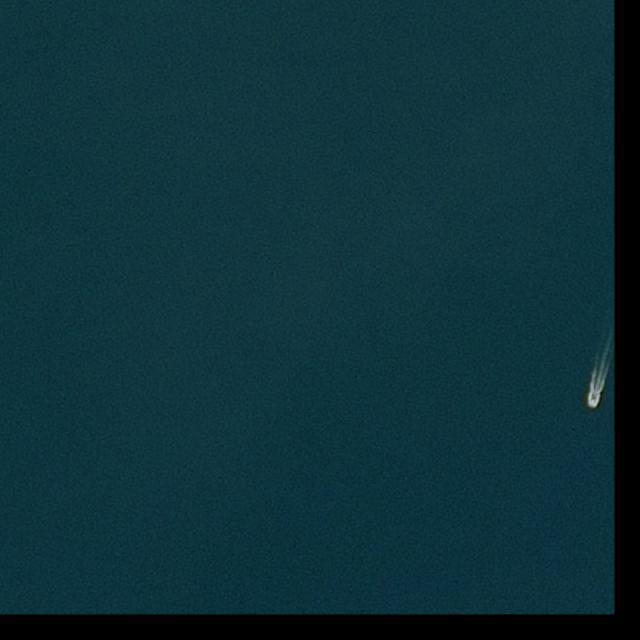ship: (590, 394, 598, 407)
